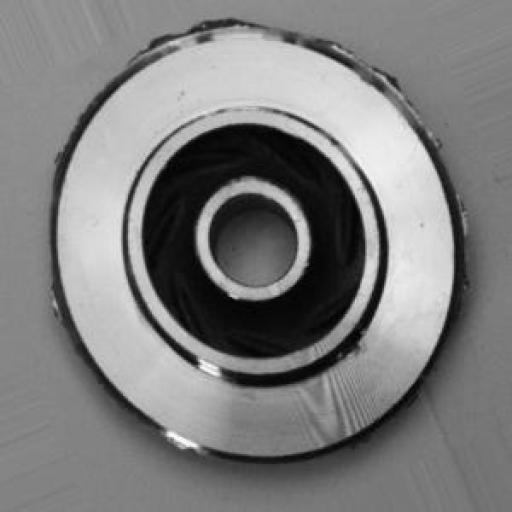defect: (30, 12, 494, 408)
